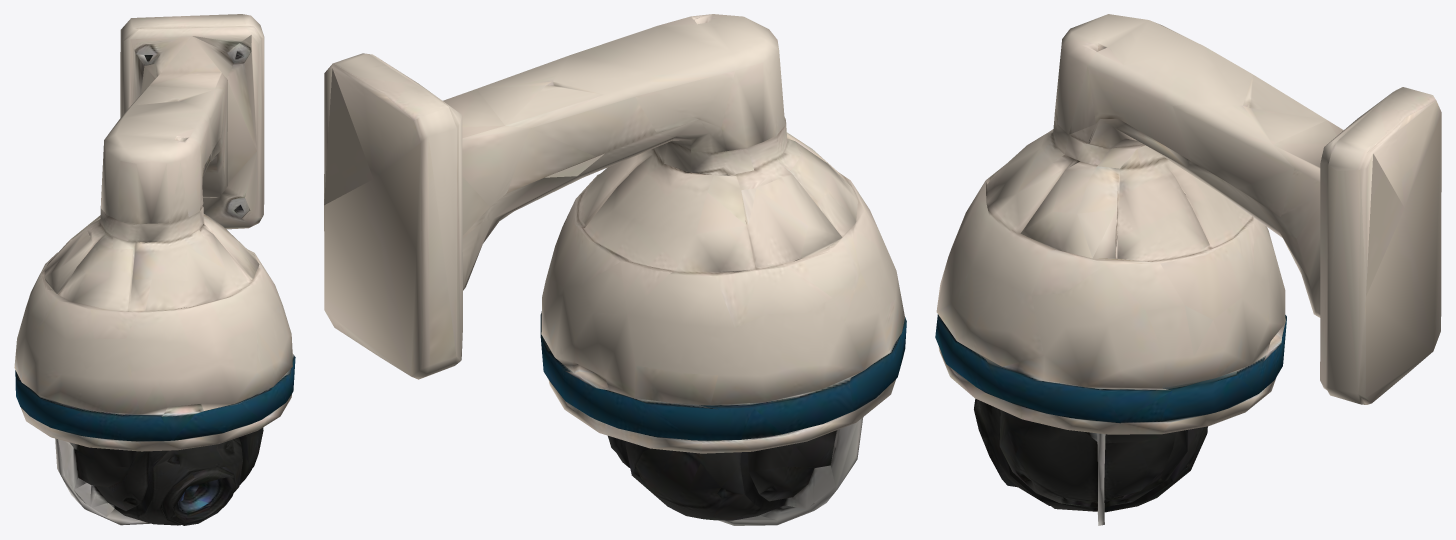
File: security_camera_a.glb
3 views of the same model, side by side, from view 1: azimuth 30°, elevation 25°; view 2: azimuth 150°, elevation 25°; view 3: azimuth 270°, elevation 25° (orthographic). The views are drawn at different scales.
Visible parts, largest first — view 1: security_camera_a; view 2: security_camera_a; view 3: security_camera_a.
Part boxes in pixels (x1,y1,x2,y2): security_camera_a: (14,14,295,525); security_camera_a: (324,14,906,525); security_camera_a: (935,14,1441,525).
Size of what is drawn, in the model's own units: 0.2227 by 0.2503 by 0.2368.
Materials: 1 (1 with a texture image).
